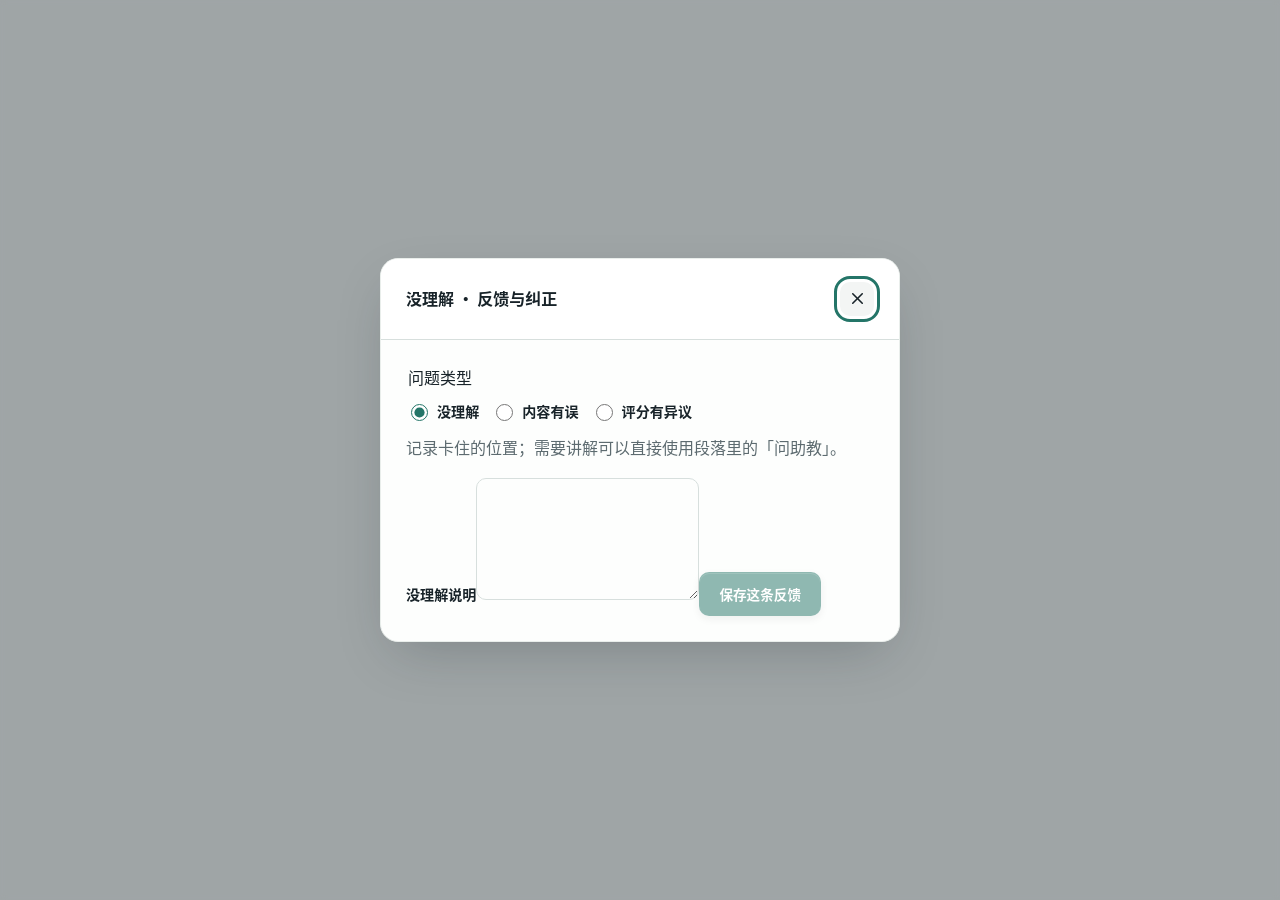
Test: CourseFeedbackDialog › creates an issue from the entry form and keeps kind selection honest
The width and height of the screenshot is (1280, 900).
Expected: the text "问题类型" is shown, x1=406 y1=365 x2=474 y2=389
Click the radio button labelled "内容有误" at coordinates (505, 412), box x1=496 y1=404 x2=513 y2=421
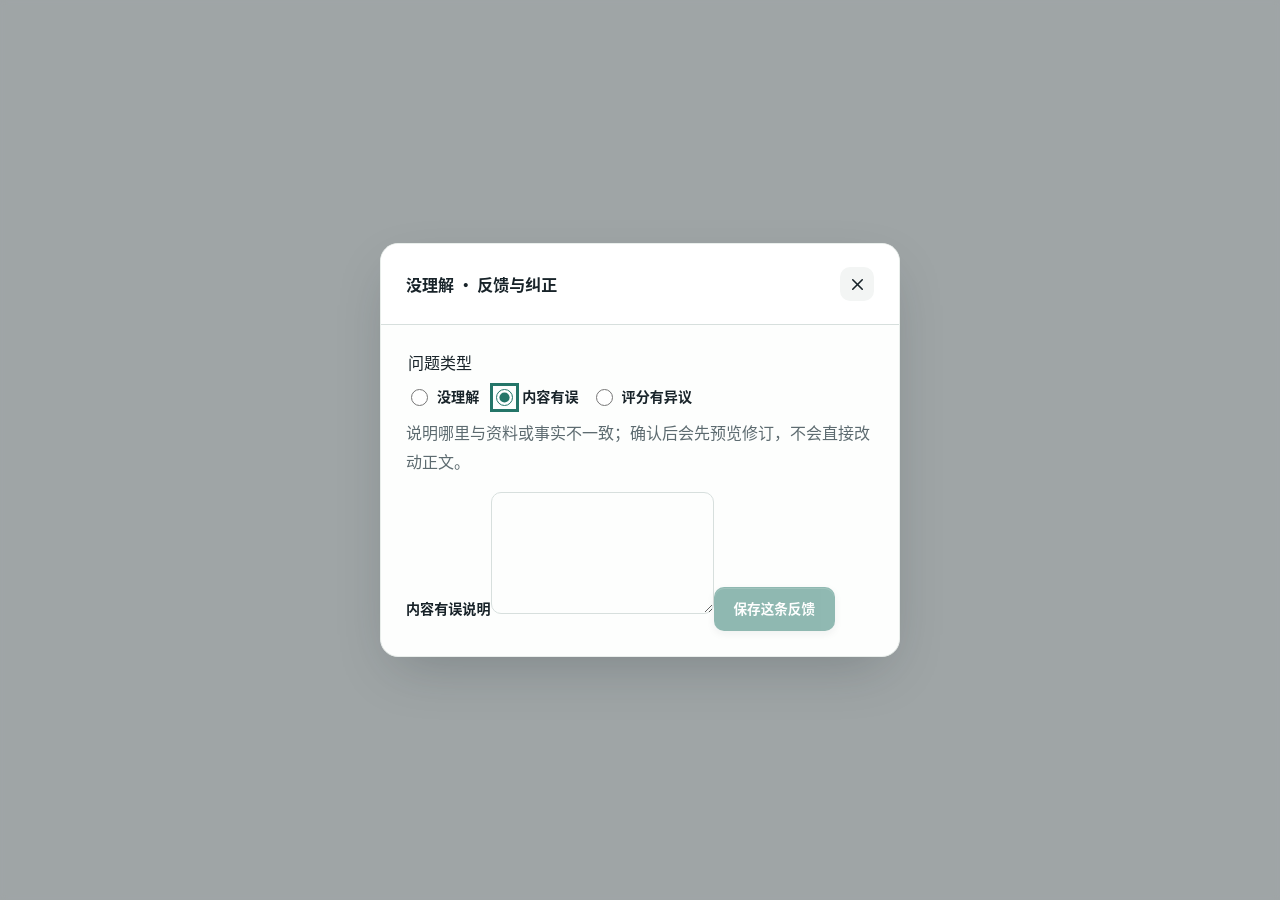
Type "这段与资料矛盾。" into the text box labelled "内容有误说明" at coordinates (602, 553), box x1=490 y1=492 x2=714 y2=614
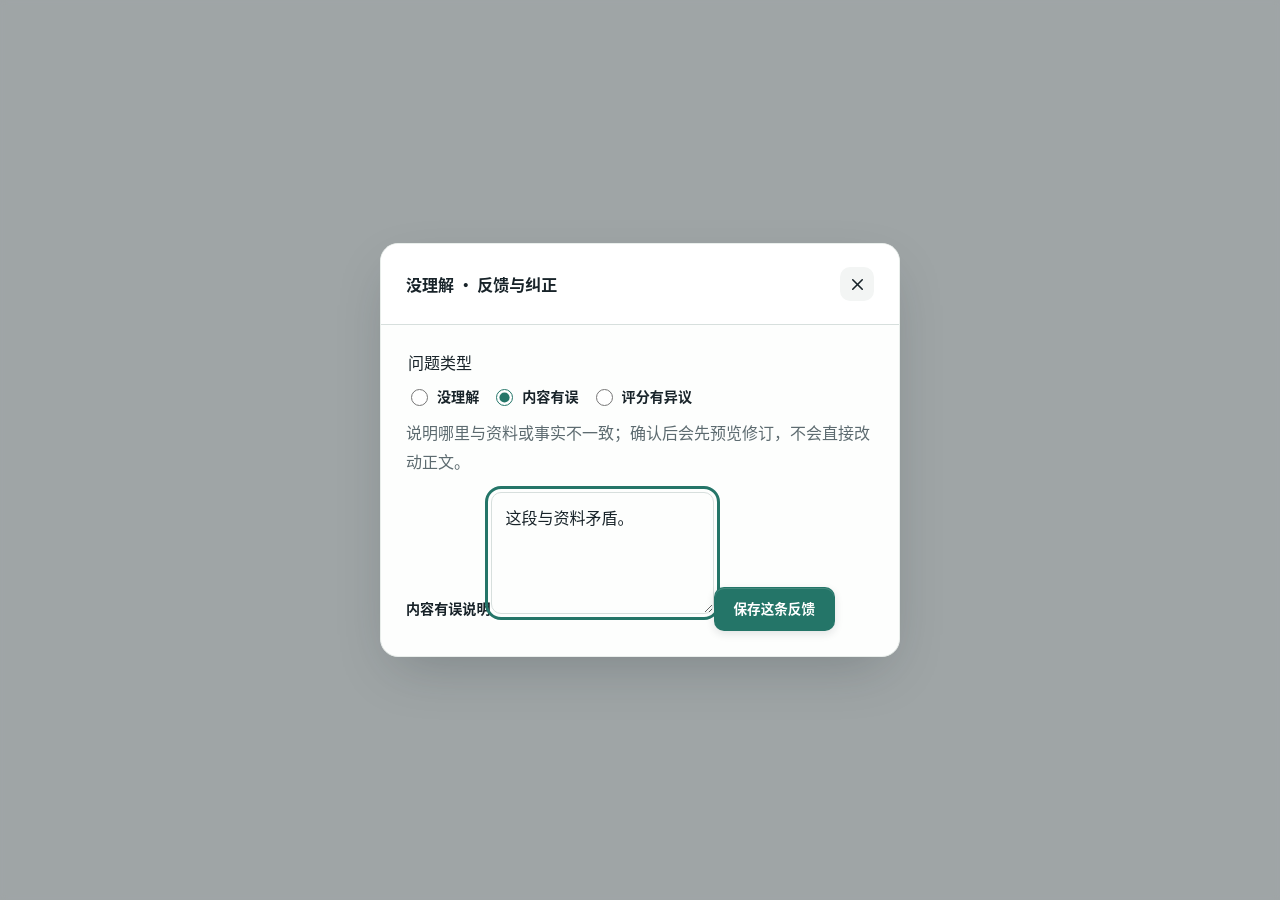
Click the button "保存这条反馈" at coordinates (774, 608), box x1=714 y1=586 x2=835 y2=630
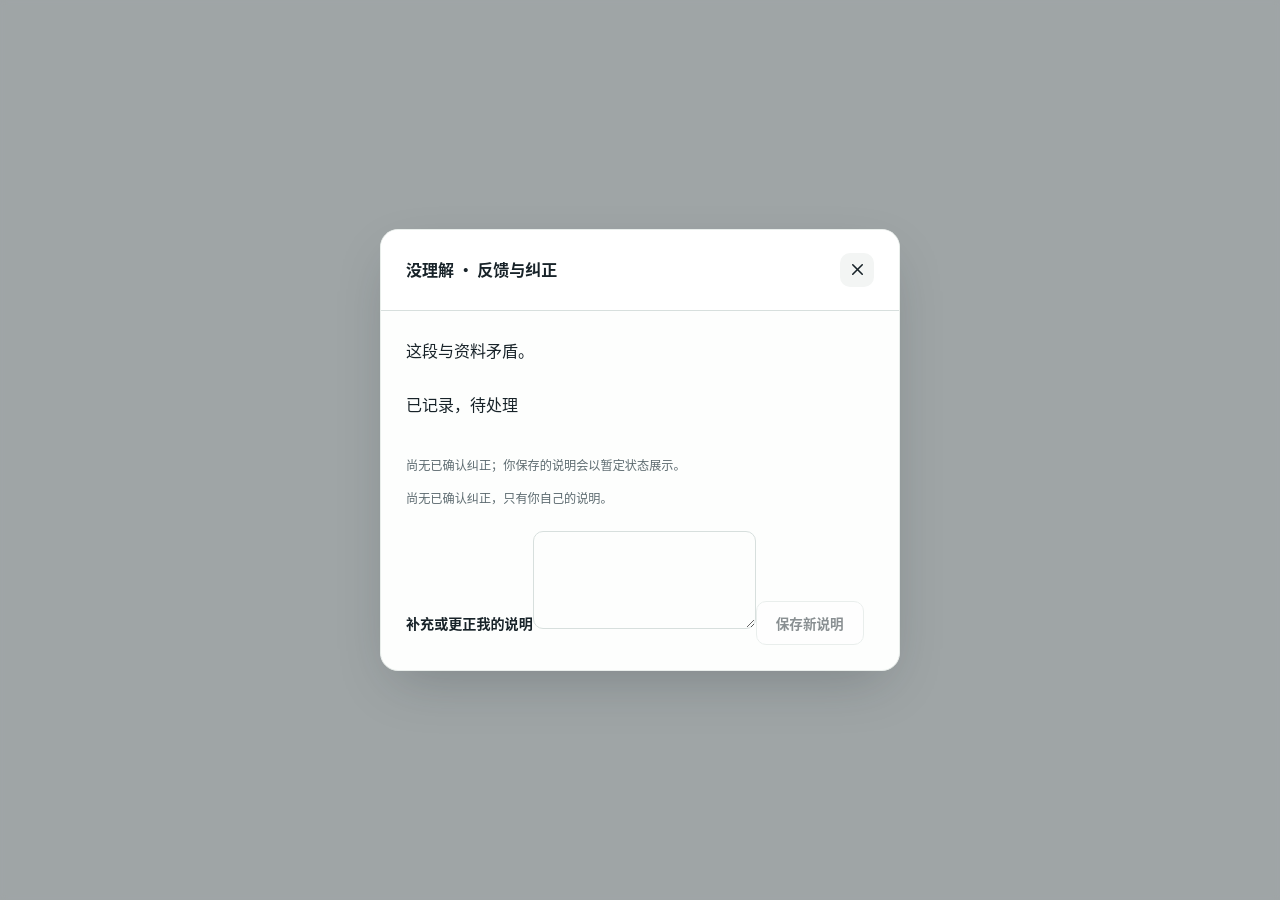
Result: the text "已记录，待处理" is shown at x1=406 y1=392 x2=518 y2=416
Result: the text "尚无已确认纠正；你保存的说明会以暂定状态展示。" is shown at x1=406 y1=456 x2=686 y2=474
